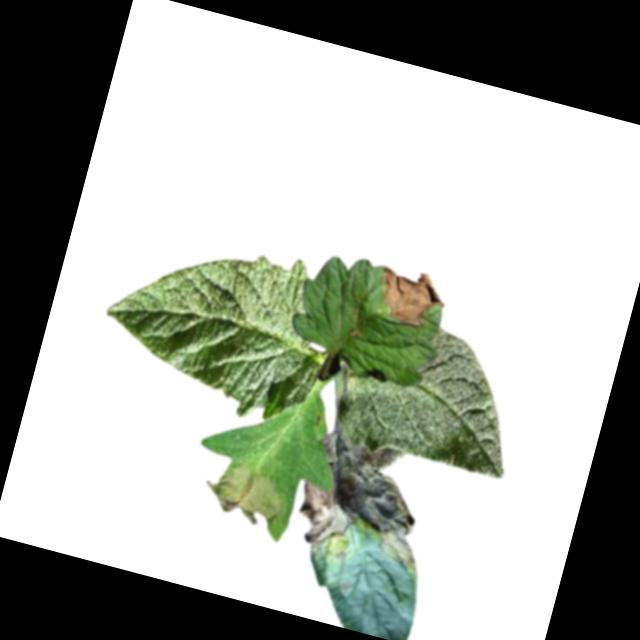Late_blight: (284, 428, 446, 584), (193, 455, 291, 531), (371, 262, 451, 333)
